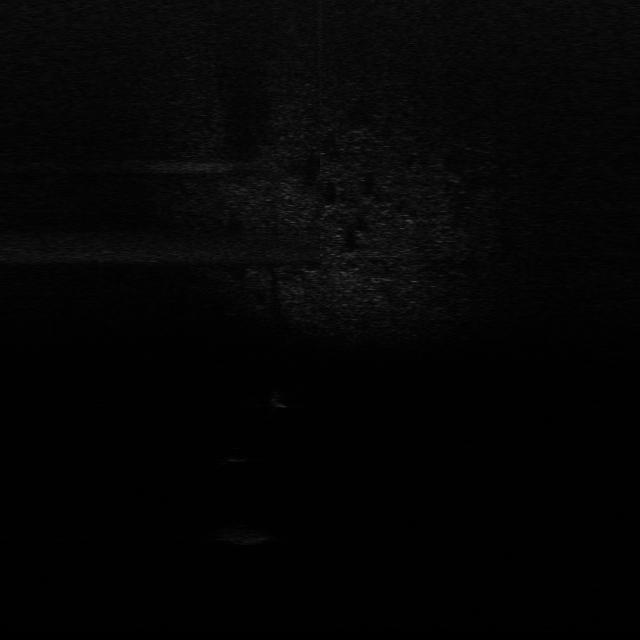ball: (222, 446, 249, 464)
circle cage: (216, 525, 276, 544)
human body: (267, 389, 298, 410)
